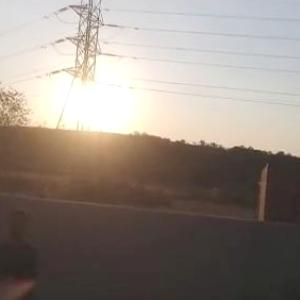follow: (0, 197, 43, 299)
